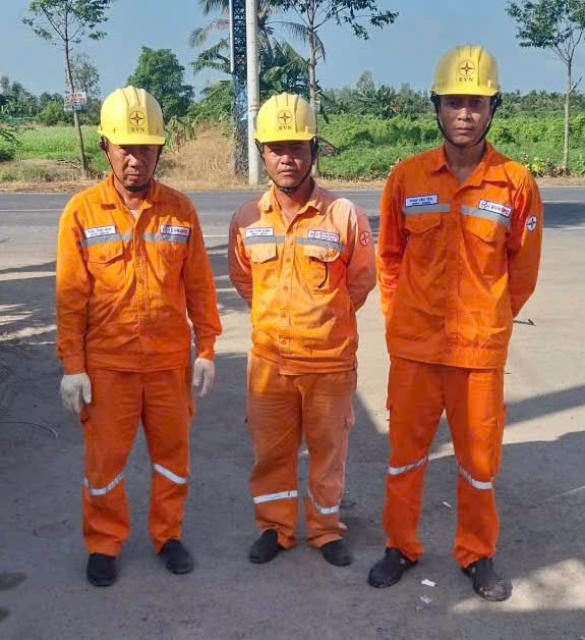gloves: (60, 357, 99, 418), (188, 357, 219, 398)
helmet: (91, 83, 174, 161), (423, 43, 516, 108), (249, 84, 324, 147)
shoes: (454, 551, 540, 608), (65, 535, 136, 589), (370, 534, 428, 593), (238, 518, 299, 561), (315, 518, 357, 574), (157, 536, 203, 578)
